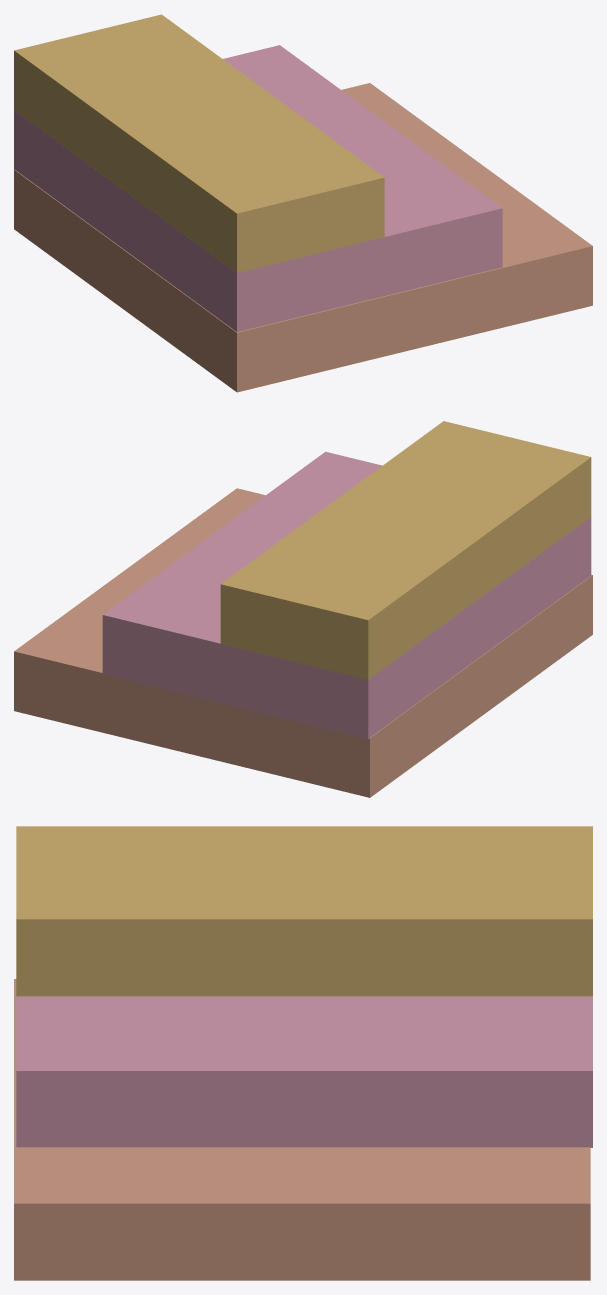
File: Stairs.obj
3 renders of one model, top to bottom at view 1: azimuth 30°, elevation 25°; view 2: azimuth 150°, elevation 25°; view 3: azimuth 270°, elevation 25°, orthographic. The views are drawn at different scales.
Parts seen in each view (by area): view 1: Cube.002, Cube, Cube.001; view 2: Cube.002, Cube.001, Cube; view 3: Cube.002, Cube.001, Cube.
Boxes of the visible parts, left/top/right/bottom form: Cube.002: left=14, top=14, right=384, bottom=272; Cube: left=14, top=83, right=592, bottom=392; Cube.001: left=14, top=45, right=502, bottom=331; Cube.002: left=220, top=421, right=591, bottom=679; Cube.001: left=102, top=451, right=591, bottom=739; Cube: left=14, top=488, right=592, bottom=797; Cube.002: left=16, top=826, right=592, bottom=996; Cube.001: left=16, top=996, right=592, bottom=1147; Cube: left=14, top=979, right=590, bottom=1280.
Bounding box in the file's own units: 7.55 × 3.61 × 8.22.
